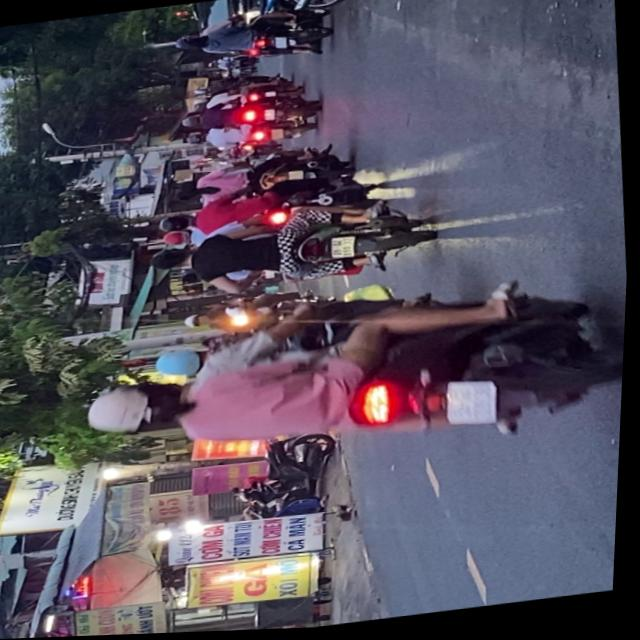helmet: (84, 376, 194, 444), (153, 347, 210, 383), (158, 214, 197, 236), (161, 231, 193, 251)
licenseplate: (75, 266, 630, 488), (144, 196, 442, 306), (155, 174, 379, 245)
motorcyclist: (150, 248, 194, 276)
nohelmet: (446, 382, 500, 432), (330, 238, 357, 262)
